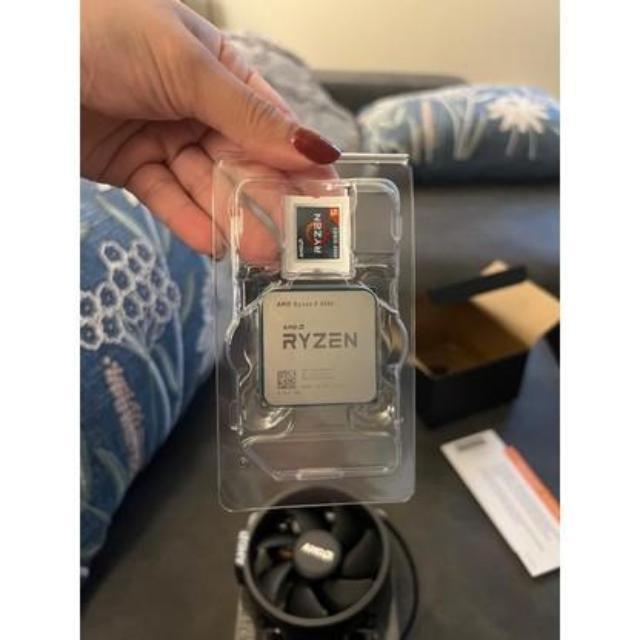CPU: (262, 292, 378, 406)
